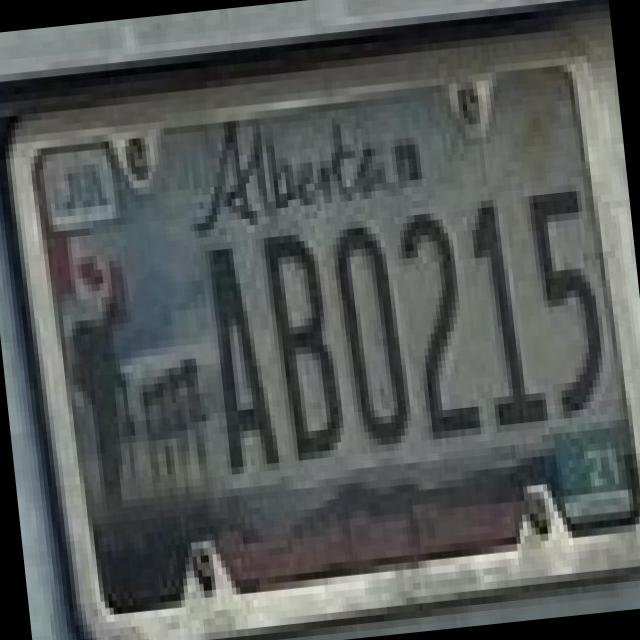0: (316, 204, 414, 448)
1: (446, 175, 544, 428)
2: (384, 190, 481, 442)
5: (514, 160, 618, 414)
A: (173, 218, 280, 478)
B: (245, 210, 346, 463)
